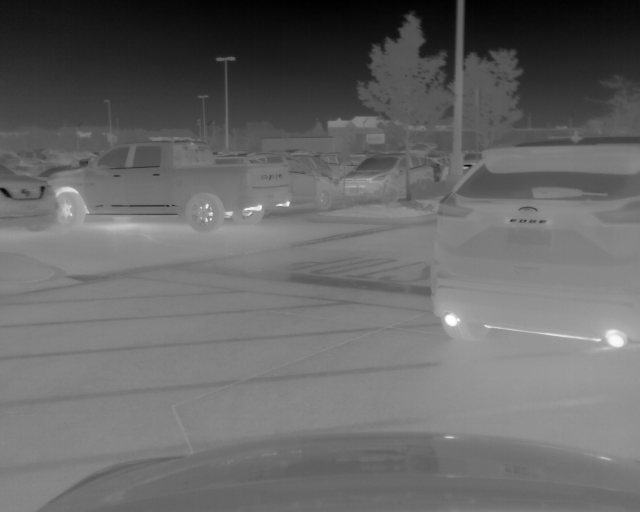car: (429, 140, 640, 350), (48, 138, 290, 229), (221, 156, 338, 220), (336, 150, 449, 204), (1, 162, 58, 233)
